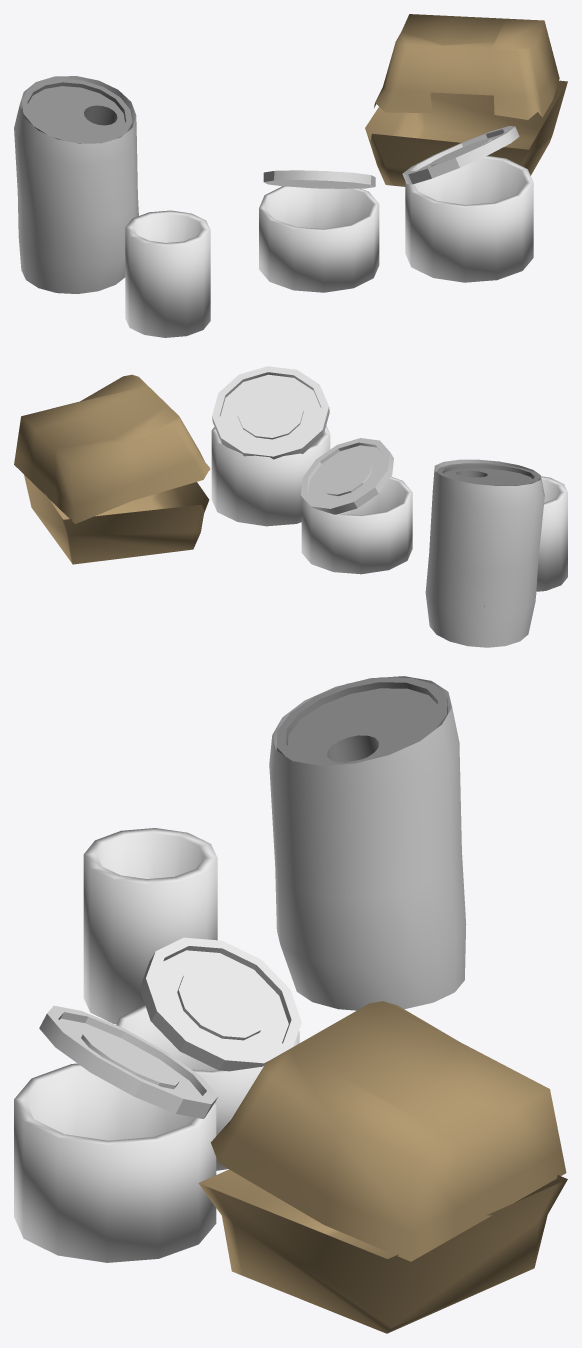
Rendered from trash pack.fbx.
3 renders of one model, top to bottom at view 1: azimuth 30°, elevation 25°; view 2: azimuth 150°, elevation 25°; view 3: azimuth 270°, elevation 25°, orthographic. The views are drawn at different scales.
Parts seen in each view (by area): view 1: box_hamburger, coke, can_green, can_cyan, can_blue, Cylinder.014, Circle.002, Circle.001; view 2: box_hamburger, coke, Circle.002, can_cyan, can_green, Circle.001, can_blue, Cylinder.014; view 3: box_hamburger, coke, can_green, can_blue, Circle.001, Cylinder.014, Circle.002, can_cyan.
Boxes of the visible parts, x1,y1,x2,y2 form: box_hamburger: (365, 14, 567, 186); coke: (14, 76, 138, 293); can_green: (405, 155, 533, 282); can_cyan: (259, 186, 379, 292); can_blue: (125, 210, 210, 337); Cylinder.014: (21, 78, 132, 143); Circle.002: (402, 126, 519, 184); Circle.001: (263, 170, 375, 188); box_hamburger: (14, 374, 210, 564); coke: (425, 459, 544, 647); Circle.002: (212, 366, 329, 459); can_cyan: (301, 476, 412, 574); can_green: (211, 425, 330, 526); Circle.001: (301, 438, 393, 514); can_blue: (536, 476, 567, 591); Cylinder.014: (436, 463, 540, 606); box_hamburger: (198, 1001, 567, 1333); coke: (269, 676, 466, 1010); can_green: (14, 1063, 216, 1262); can_blue: (83, 828, 217, 1024); Circle.001: (139, 937, 301, 1071); Cylinder.014: (276, 677, 447, 765); Circle.002: (39, 1005, 218, 1118); can_cyan: (116, 1005, 299, 1170).
Bounding box in the file's own units: 117 × 36.06 × 64.31.
